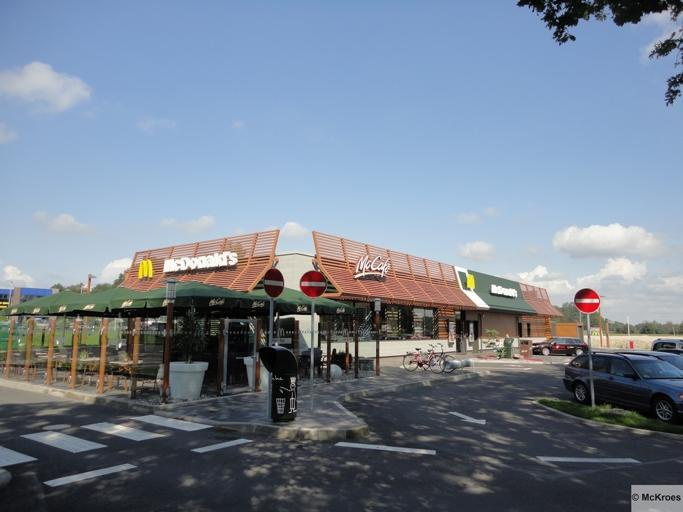non-vehicle: (401, 343, 446, 374), (419, 342, 455, 373)
